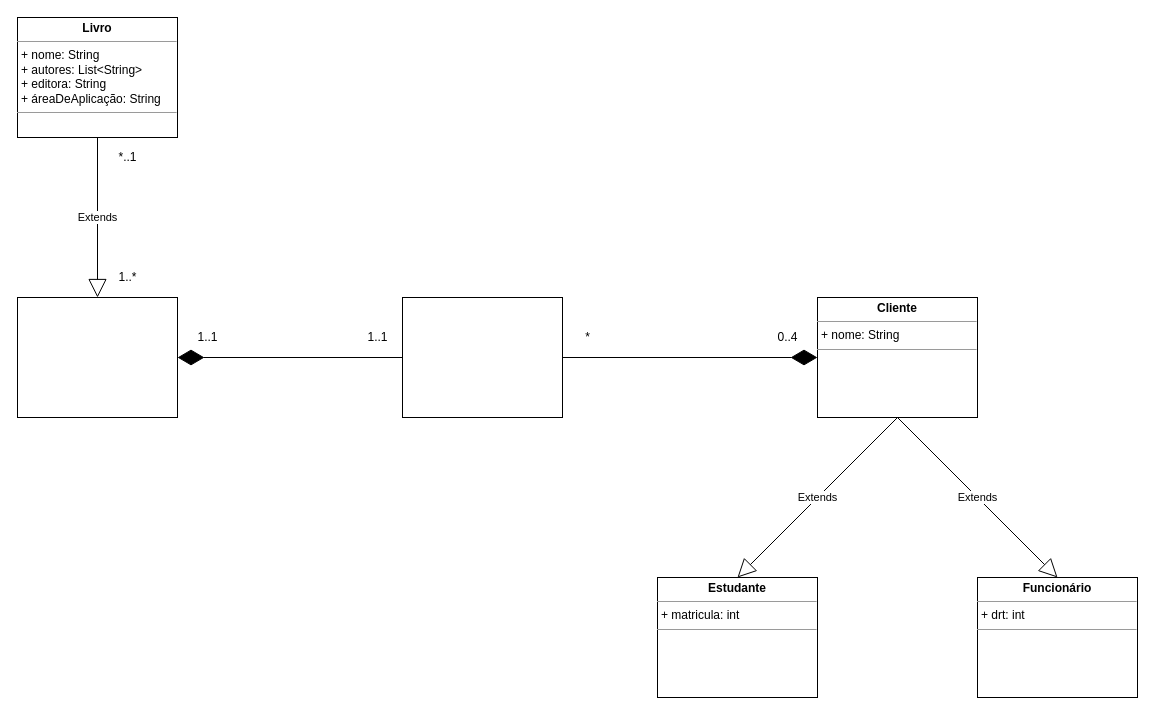
Some shapes in this 1155 by 715 pixel diagram are drawn without their labels. Here are the shapes that lost their labels. From the top down, the centre of each, then its label:
the point at 97,357: Exemplar + id: int + dataDeAquisição: Date + preço: Float
the point at 482,357: Empréstimo + id: int + dataDeAquisição: Date + preço: Float
